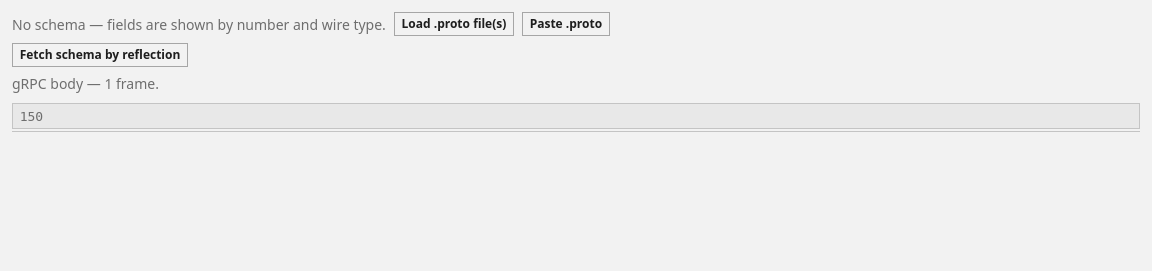
reflect-decode on the Protobuf tab › says that the fetch sends a request to the target
Click the button "Fetch schema by reflection".
click(100, 55)  # box [12,43,188,67]
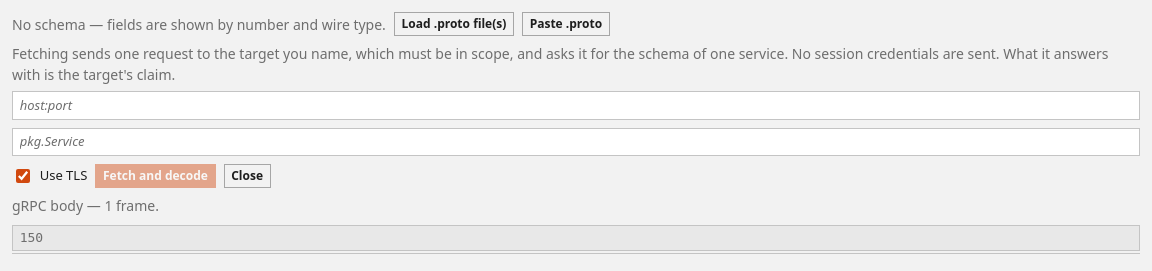
Check: the text "sends one request to the target" is shown, box [12,44,1108,84]
